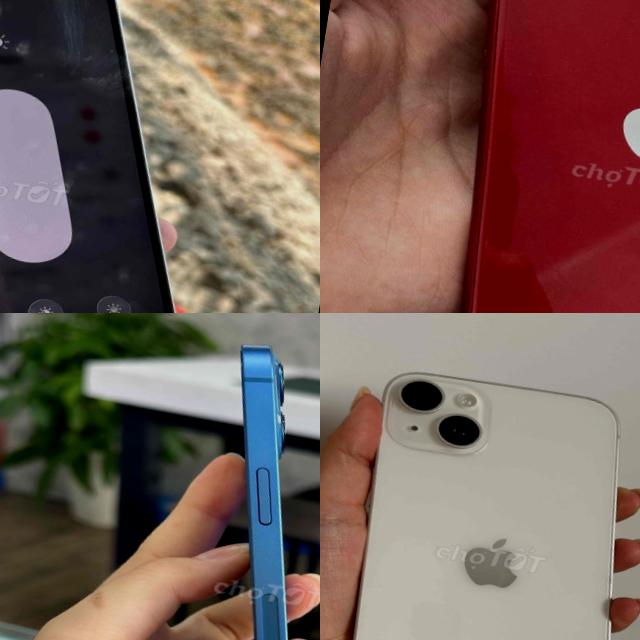gen_12_13: (169, 337, 320, 640)
gen_14: (320, 352, 640, 640), (0, 0, 246, 313)
gen_7_8: (410, 0, 640, 313)
